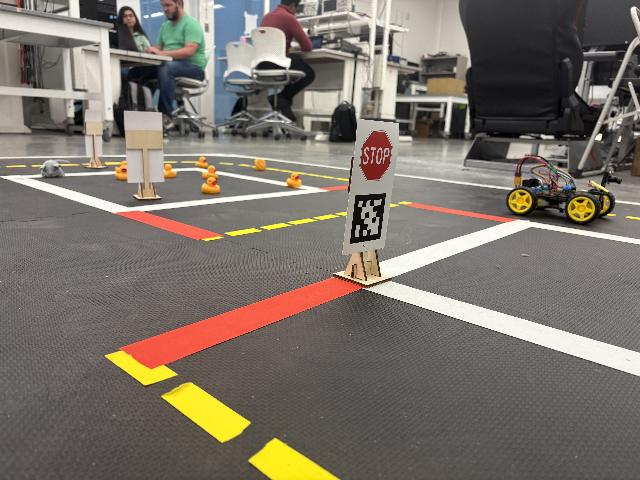duck: (201, 176, 220, 195), (286, 173, 302, 188), (202, 165, 219, 179), (115, 165, 128, 180), (164, 164, 177, 179), (115, 160, 128, 173), (195, 157, 208, 169), (254, 158, 266, 171)
redline: (118, 276, 362, 370), (116, 210, 224, 242), (404, 201, 517, 224), (322, 184, 348, 193)
stopsign: (359, 129, 393, 181)
whiteline: (362, 280, 640, 376), (222, 153, 640, 206), (378, 221, 530, 278), (0, 176, 134, 213), (135, 187, 329, 212), (192, 165, 323, 190), (521, 219, 640, 245), (0, 166, 197, 177), (0, 152, 225, 159)
yellowline: (105, 351, 341, 480), (203, 202, 410, 243), (220, 162, 350, 183), (0, 159, 199, 169), (607, 213, 640, 222)
